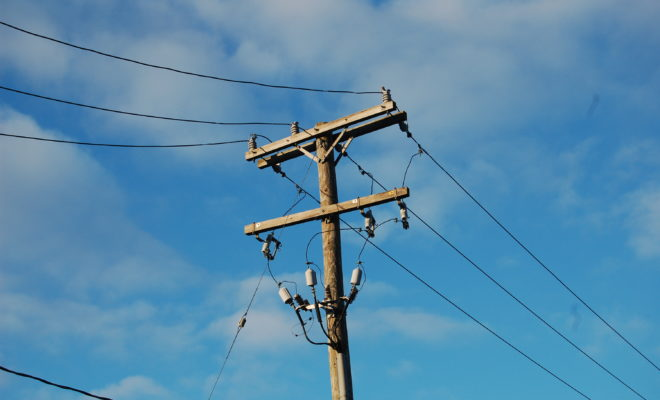utility_pole: (227, 76, 433, 351)
